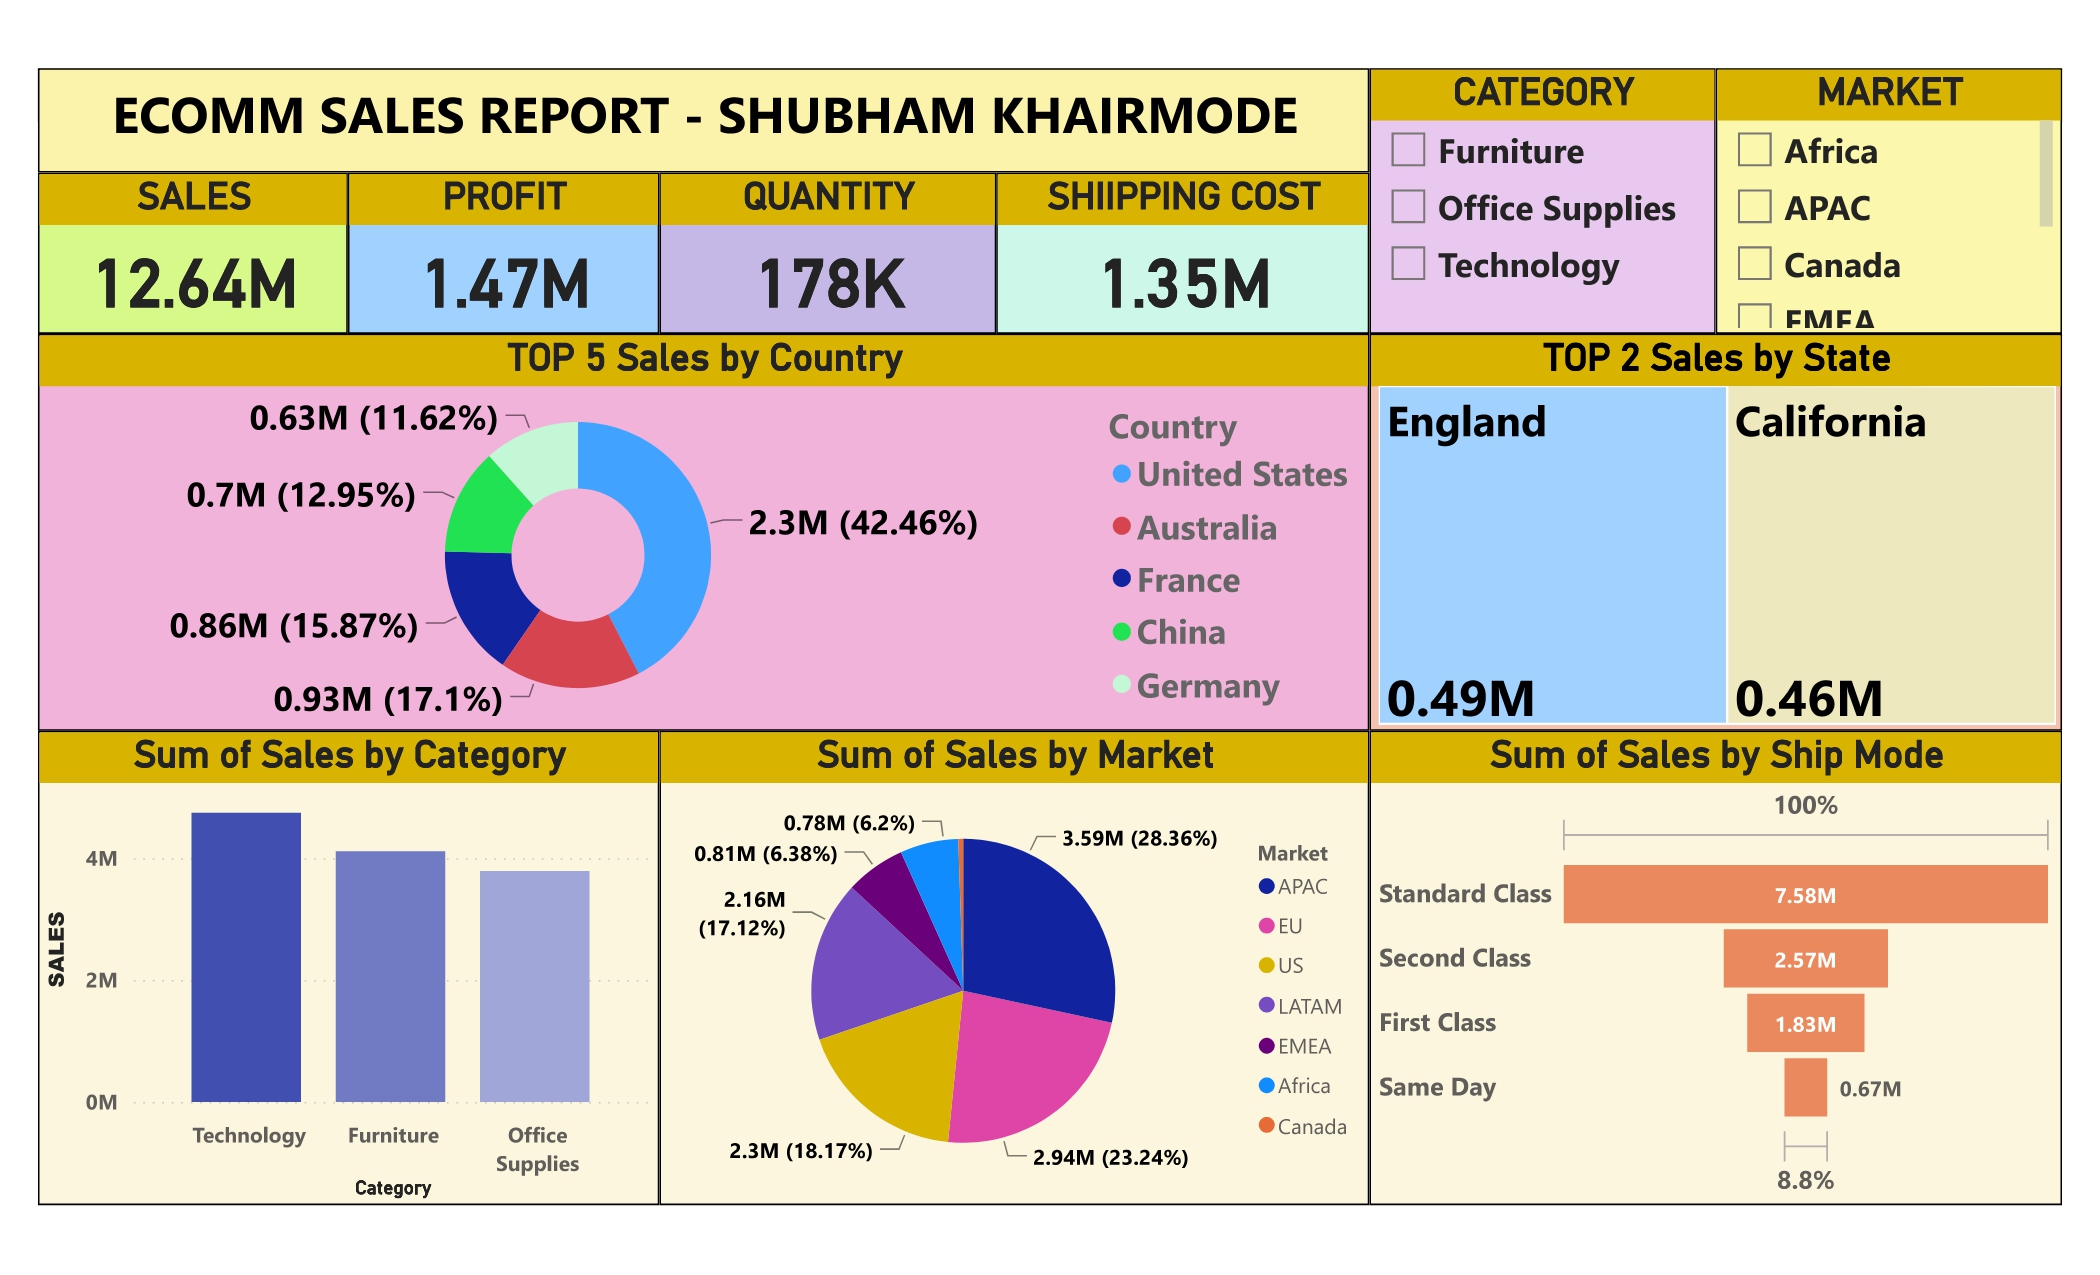

What the dashboard file says about the page in this screenshot:
{"tool":"powerbi","page":{"name":"Page 1","canvas":[1280,720],"ordinal":0},"visuals":[{"type":"columnChart","fields":{"Category":["Orders.Category"],"Y":["Orders.Sales"]},"box":[0,419.1,392.7,300.2],"z":0},{"type":"pieChart","fields":{"Category":["Orders.Market"],"Y":["Orders.Sales"]},"box":[392.7,419.1,449.3,300.2],"z":1},{"type":"funnel","fields":{"Category":["Orders.Ship Mode"],"Y":["Orders.Sales"]},"box":[842,419.1,438,300.2],"z":2},{"type":"donutChart","title":"TOP 5 Sales by Country","fields":{"Category":["Orders.Country"],"Y":["Orders.Sales"]},"box":[0,168,842,251.1],"z":3},{"type":"treemap","title":"TOP 2 Sales by State","fields":{"Group":["Orders.State"],"Values":["Orders.Sales"]},"box":[842,168,438,251.1],"z":4},{"type":"card","title":"SALES","fields":{"Values":["Orders.Sales"]},"box":[0,66.1,196.3,101.9],"z":5},{"type":"card","title":"PROFIT","fields":{"Values":["Orders.Profit"]},"box":[196.3,66.1,196.3,101.9],"z":6},{"type":"card","title":"QUANTITY","fields":{"Values":["Orders.Quantity"]},"box":[392.7,66.1,213.3,101.9],"z":7},{"type":"card","title":"SHIIPPING COST","fields":{"Values":["Orders.Shipping Cost"]},"box":[606,66.1,236,101.9],"z":8},{"type":"slicer","title":"CATEGORY","fields":{"Values":["Orders.Category"]},"box":[842,0,219,168],"z":10},{"type":"slicer","title":"MARKET","fields":{"Values":["Orders.Market"]},"box":[1061,0,219,168],"z":11},{"type":"textbox","box":[0,0,842,66.1],"z":12}]}

Visuals, with their boxes in screenshot pixels (x1, y1, x2, y2):
columnChart - Orders.Category x Orders.Sales: Rect(49, 720, 662, 1188)
pieChart - Orders.Market x Orders.Sales: Rect(662, 720, 1363, 1188)
funnel - Orders.Ship Mode x Orders.Sales: Rect(1363, 720, 2047, 1188)
"TOP 5 Sales by Country" donutChart: Rect(49, 328, 1363, 720)
"TOP 2 Sales by State" treemap: Rect(1363, 328, 2047, 720)
"SALES" card: Rect(49, 169, 356, 328)
"PROFIT" card: Rect(356, 169, 662, 328)
"QUANTITY" card: Rect(662, 169, 995, 328)
"SHIIPPING COST" card: Rect(995, 169, 1363, 328)
"CATEGORY" slicer: Rect(1363, 66, 1705, 328)
"MARKET" slicer: Rect(1705, 66, 2047, 328)
textbox: Rect(49, 66, 1363, 169)
